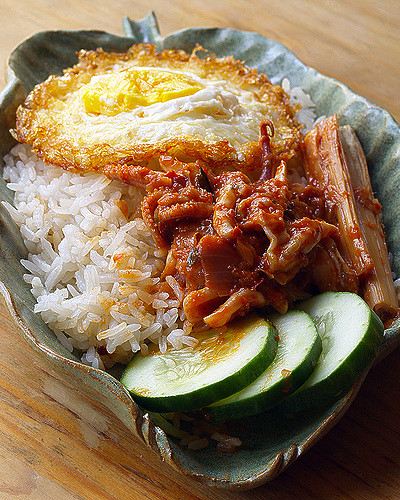fried egg: (17, 51, 306, 155)
plain rice: (38, 187, 135, 297)
